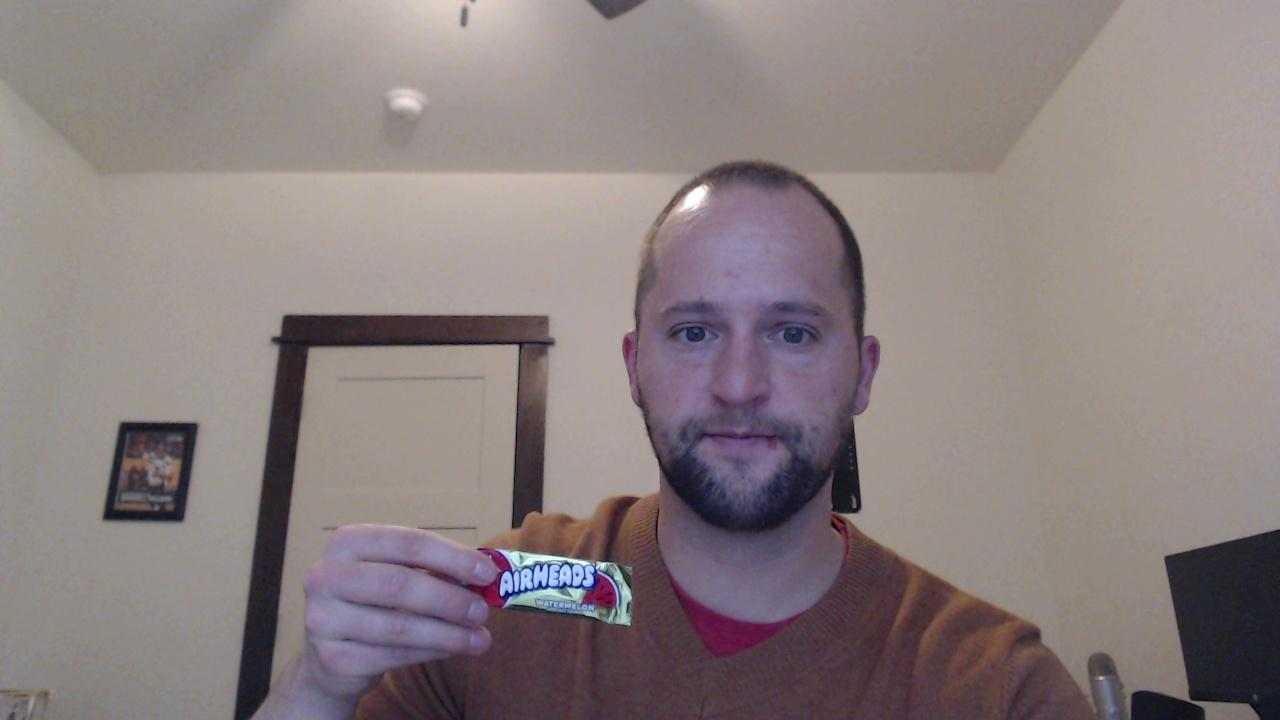airheads: (465, 549, 639, 627)
